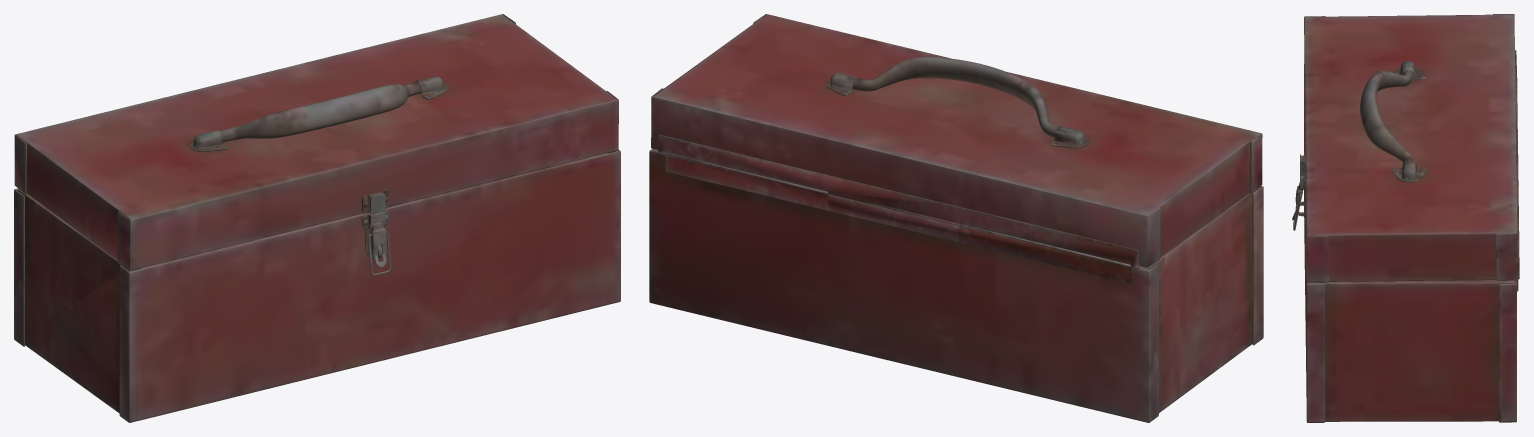
The model's file is toolbox.glb.
The picture shows the model from 3 angles, left to right: view 1: azimuth 30°, elevation 25°; view 2: azimuth 150°, elevation 25°; view 3: azimuth 270°, elevation 25°; orthographic projection. The views are drawn at different scales.
Parts seen in each view (by area): view 1: ToolBox_Lid_aiToolBox_0; view 2: ToolBox_Lid_aiToolBox_0; view 3: ToolBox_Lid_aiToolBox_0.
Part boxes in pixels (box(x1,y1,x2,y2)): ToolBox_Lid_aiToolBox_0: box(14, 14, 620, 422); ToolBox_Lid_aiToolBox_0: box(649, 14, 1263, 422); ToolBox_Lid_aiToolBox_0: box(1292, 14, 1519, 422).
Size of the model in its own units: 0.509 by 0.2347 by 0.221.
Materials: 1 (1 with a texture image).
